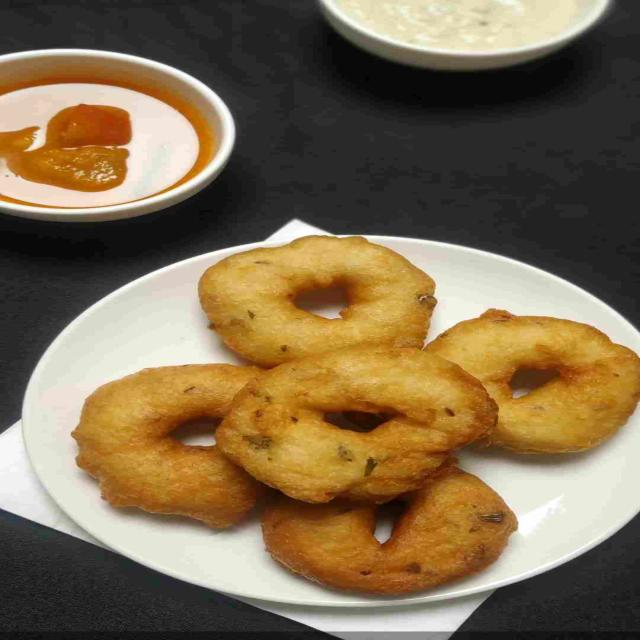MEDU VADA: (234, 342, 518, 502), (269, 471, 532, 590), (210, 240, 442, 363), (94, 362, 267, 522), (445, 319, 632, 456)
